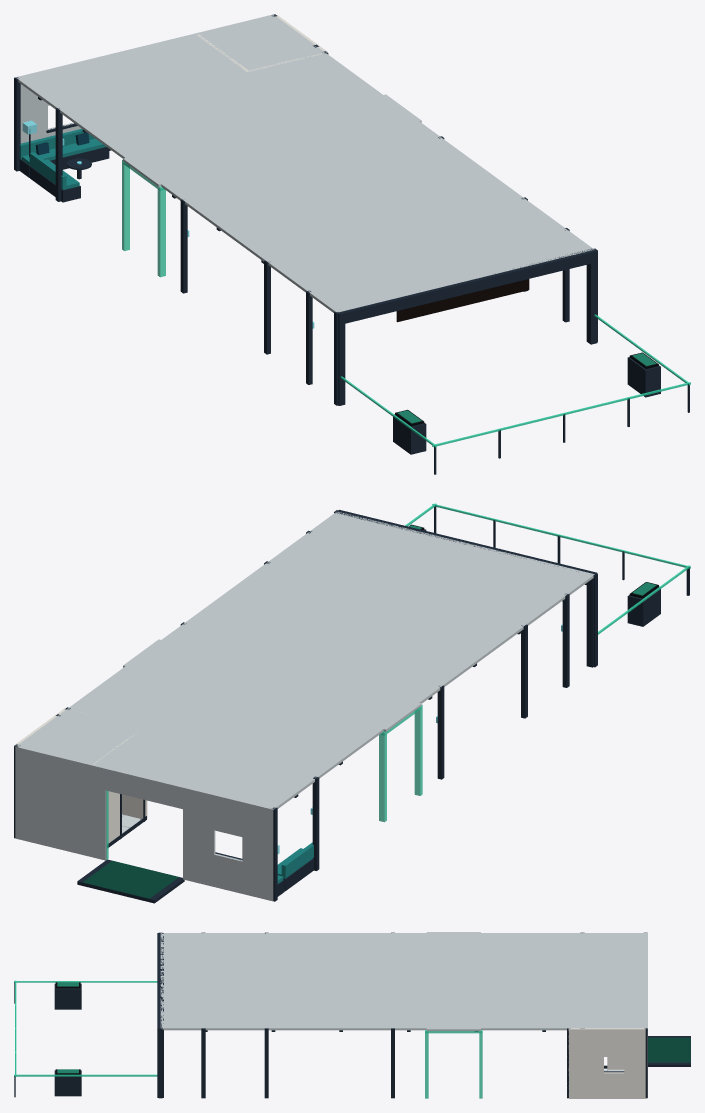
The model's file is skyfleet_bake2_05.glb.
The picture shows the model from 3 angles, top to bottom: view 1: azimuth 30°, elevation 25°; view 2: azimuth 150°, elevation 25°; view 3: azimuth 270°, elevation 25°; orthographic projection. The views are drawn at different scales.
Visible parts, largest first — view 1: baked; view 2: baked; view 3: baked.
Boxes of the visible parts, x1=… form: baked: x1=14, y1=14, x2=690, y2=474; baked: x1=14, y1=503, x2=690, y2=903; baked: x1=14, y1=932, x2=690, y2=1098.
Size of the model in its own units: 10.2 by 3.52 by 30.01.
